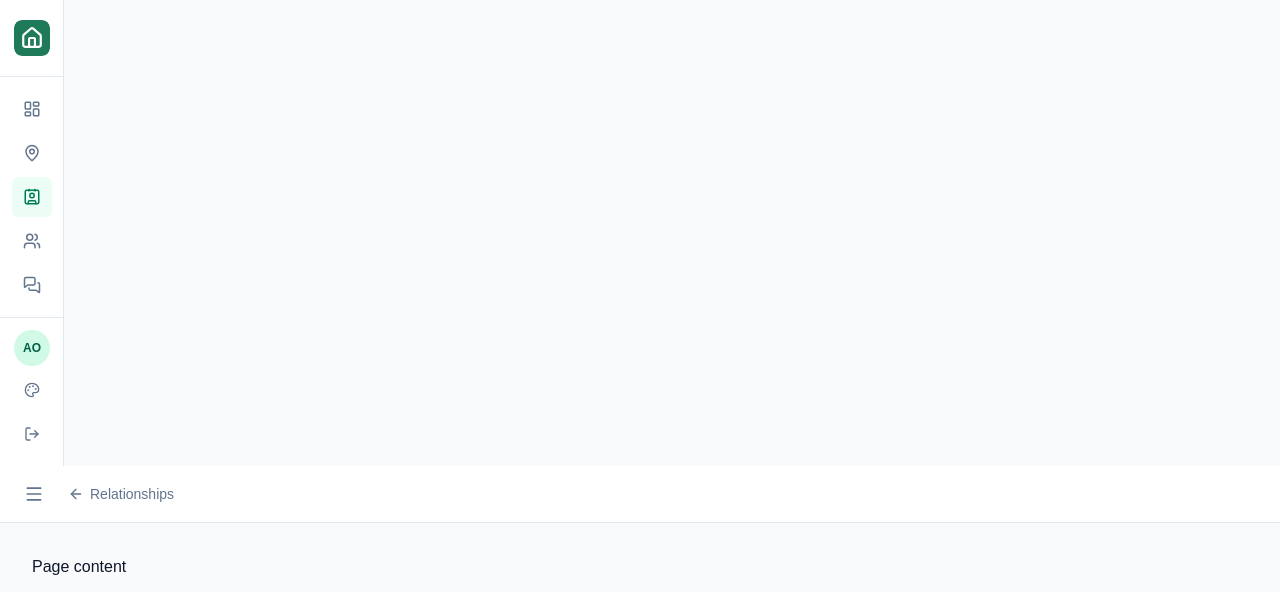
Test: desktop sidebar collapse › shows each rail icon's name in a tooltip on hover and keyboard focus
Hover over the link named "Communication" at (32, 285), box [23, 276, 41, 294]
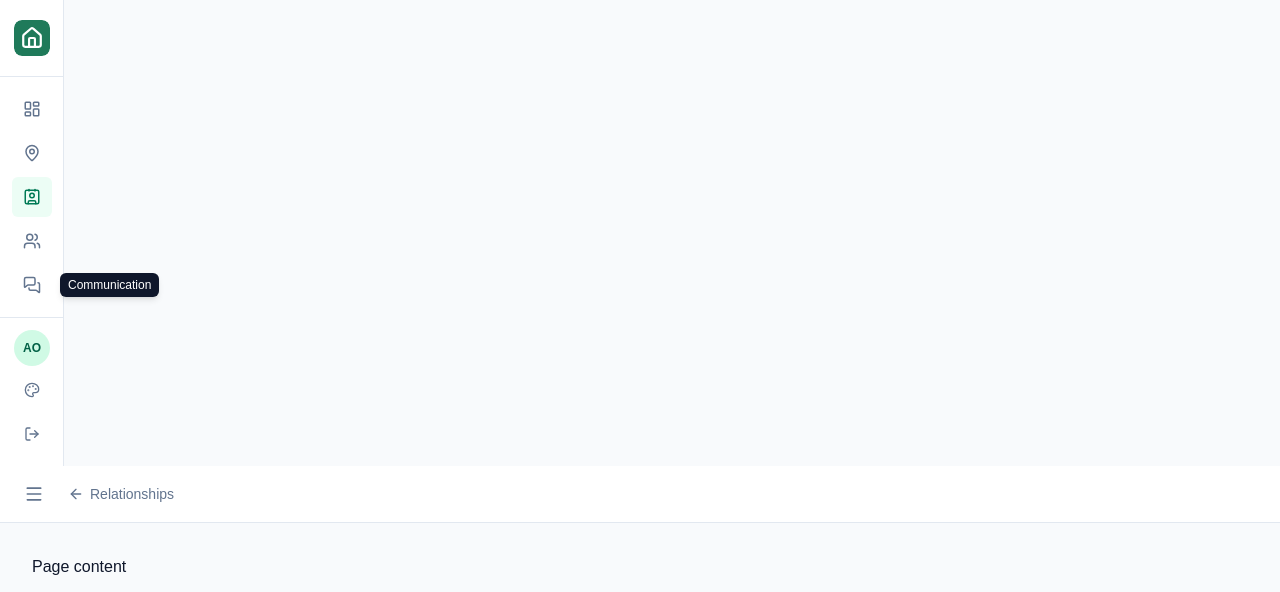
Expected: the text "Communication" is shown, [60, 273, 159, 297]
Move the pointer off the link named "Communication", box [23, 276, 41, 294]
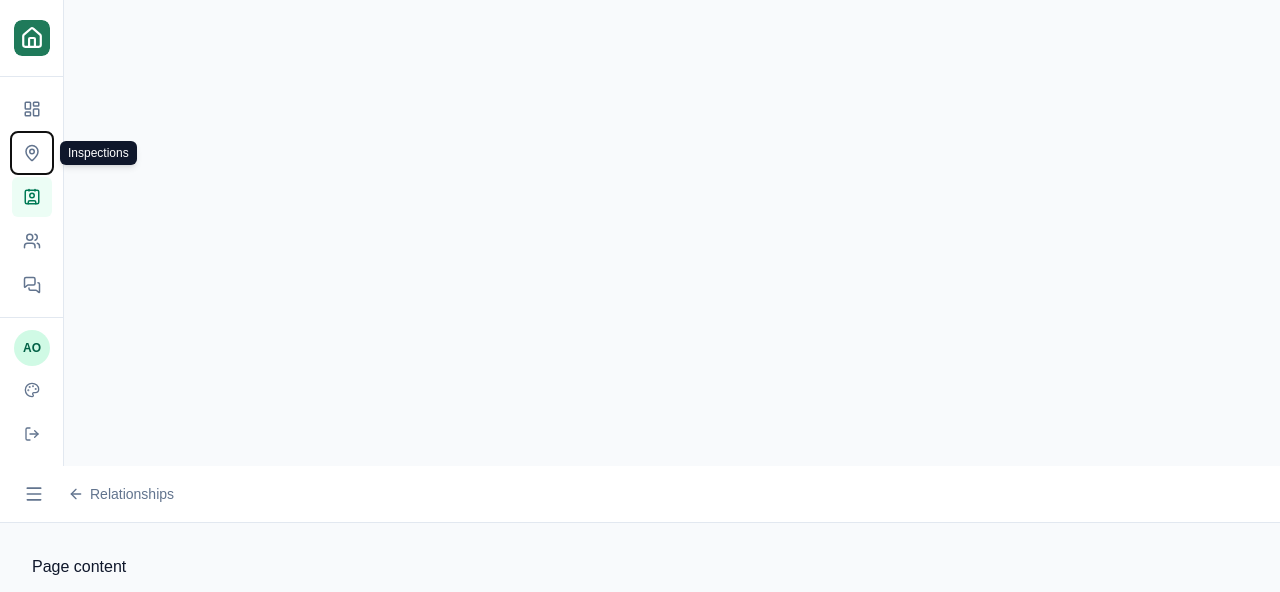
Expected: the text "Communication" is gone
Expected: the text "Inspections" is shown, [60, 141, 137, 165]
